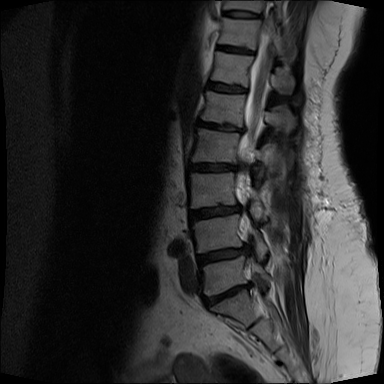Degenerative Disc Disease (DDD): (211, 37, 265, 59)
Lumbar Disc Bulge (LDB): (189, 232, 260, 273), (195, 275, 259, 311), (185, 194, 248, 230), (185, 151, 248, 176), (194, 116, 251, 135), (203, 81, 255, 97)
Normal IVD: (218, 4, 266, 23)
Spinal Stenosis (SS): (230, 229, 262, 267), (229, 188, 252, 224), (224, 155, 253, 182), (239, 271, 267, 298), (229, 118, 254, 140), (236, 78, 260, 97)
